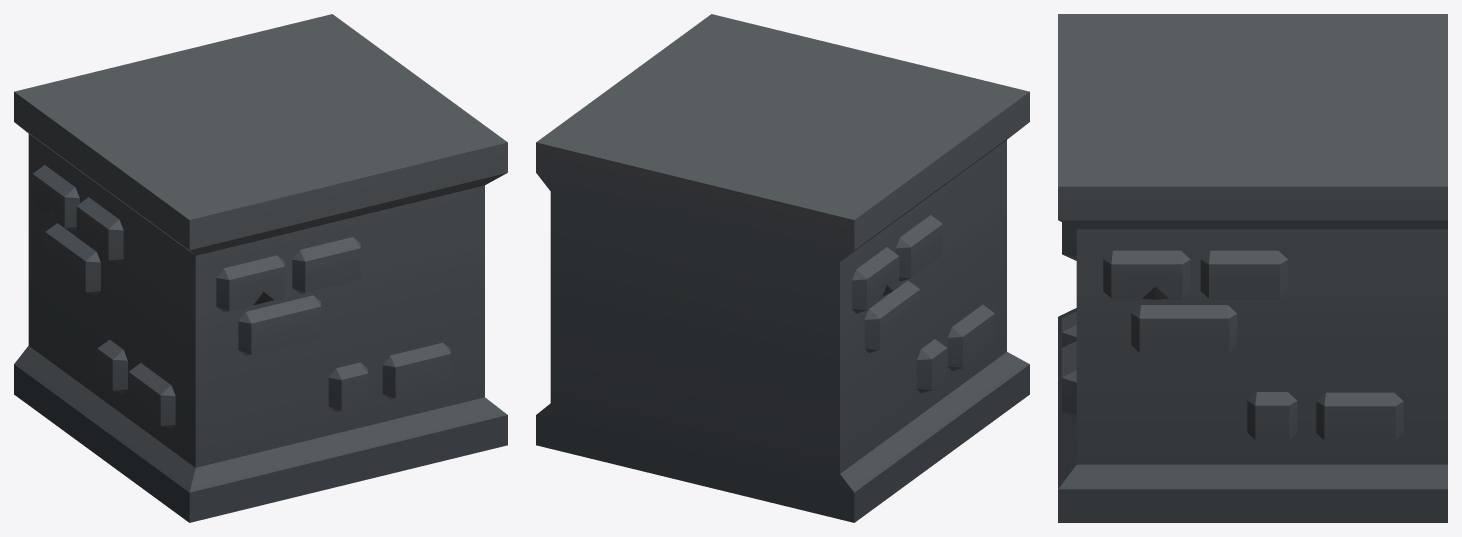
File: floor-foundation-front-and-sides-gltf.glb
The picture shows the model from 3 angles, left to right: view 1: azimuth 30°, elevation 25°; view 2: azimuth 150°, elevation 25°; view 3: azimuth 270°, elevation 25°; orthographic projection. The views are drawn at different scales.
Parts seen in each view (by area): view 1: floor_foundation_front_and_sides; view 2: floor_foundation_front_and_sides; view 3: floor_foundation_front_and_sides.
Part boxes in pixels (x1,y1,x2,y2): floor_foundation_front_and_sides: [14, 14, 507, 522]; floor_foundation_front_and_sides: [536, 14, 1029, 522]; floor_foundation_front_and_sides: [1058, 14, 1447, 522].
Size of the model in its own units: 2.2 by 2 by 2.1.
1 material, 1 textured.
